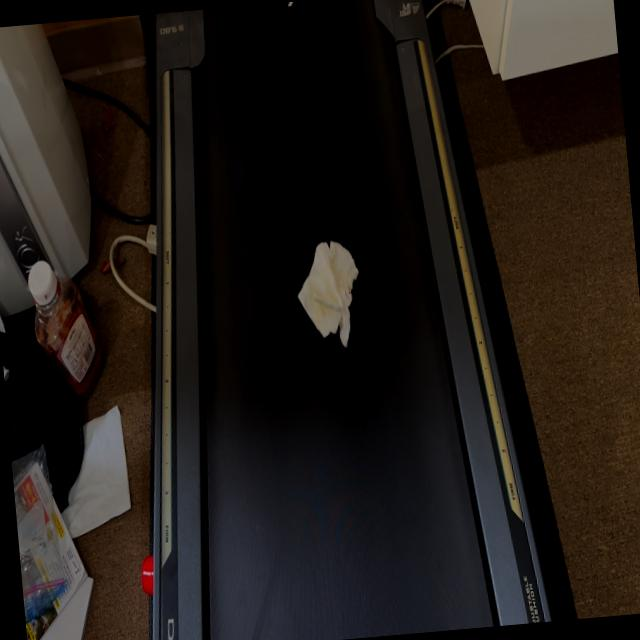Recycle: (293, 238, 365, 352)
